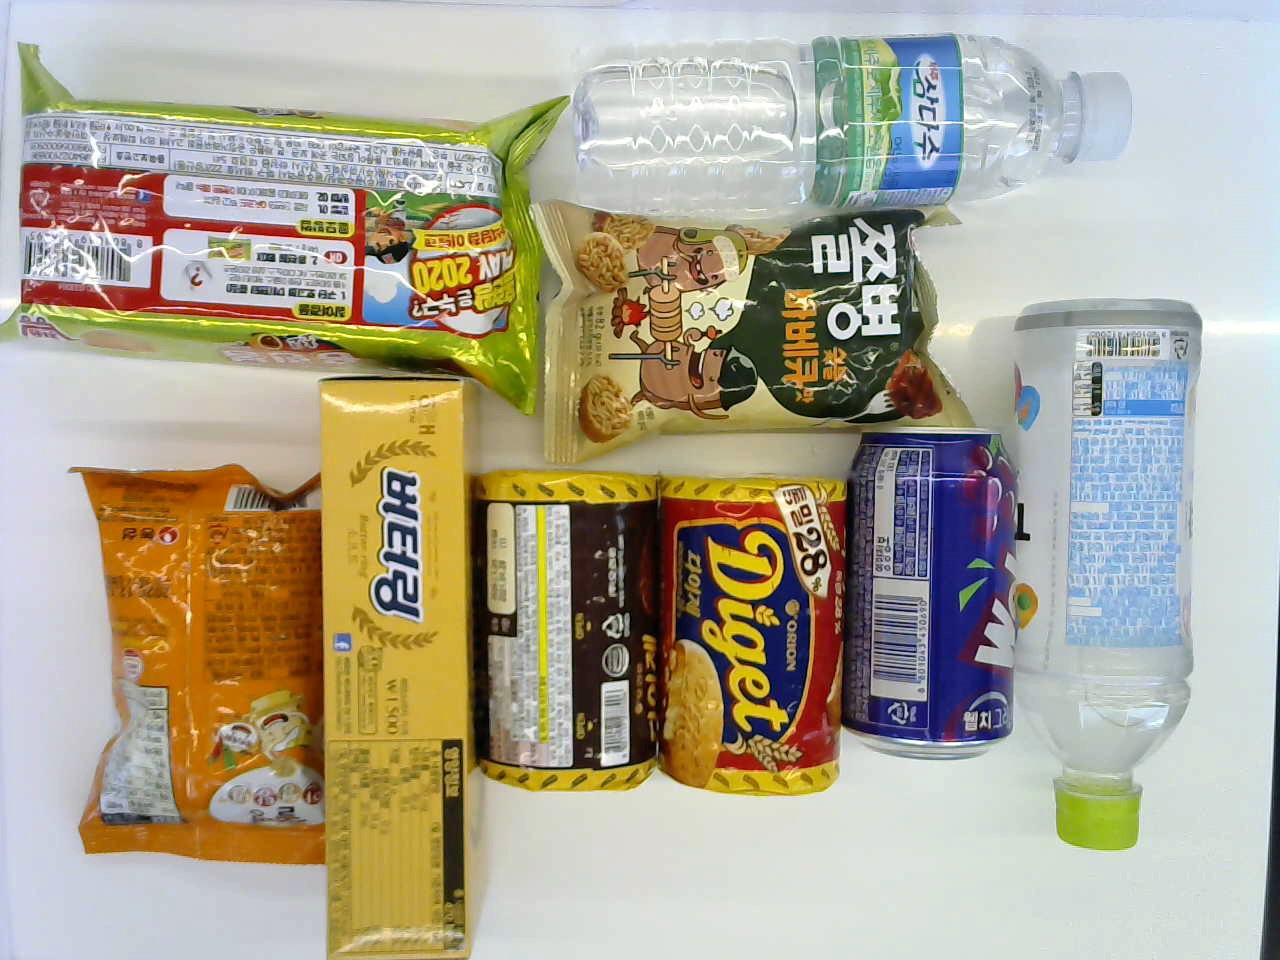buttering: (321, 371, 473, 948)
diget_choco: (464, 460, 668, 808)
diget_ori: (651, 458, 855, 806)
homerunball: (11, 49, 549, 396)
jjolbyung_noodle: (80, 455, 323, 860)
jjolbyung_ori: (533, 207, 934, 448)
samdasu: (579, 22, 1125, 231)
toreta: (1003, 284, 1209, 864)
welchs: (844, 417, 1010, 795)
